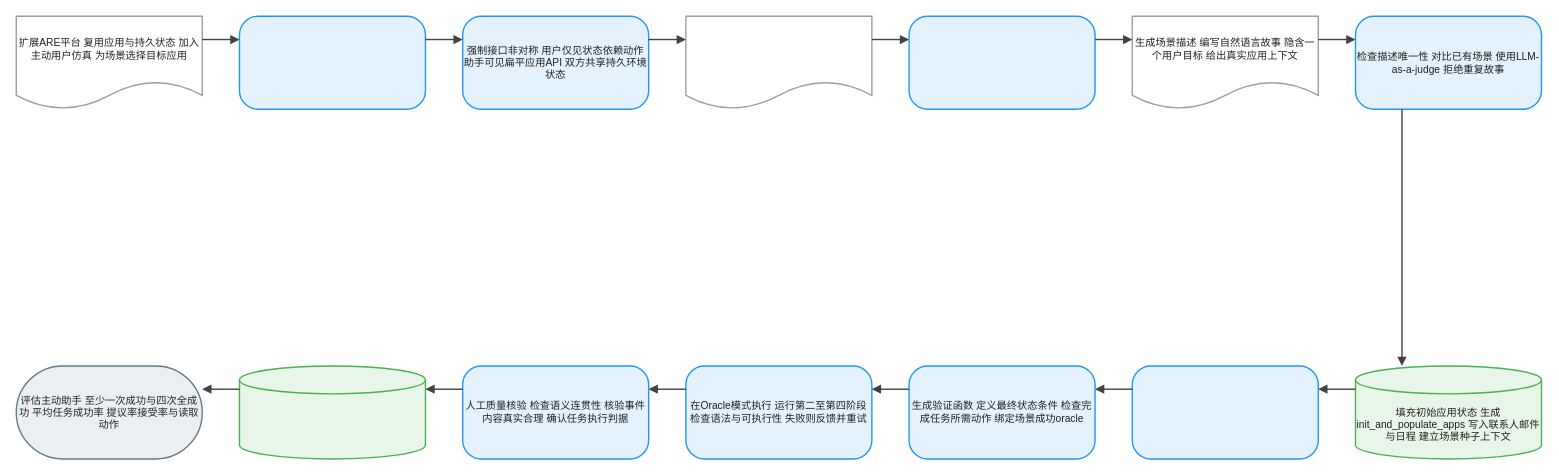
Some shapes in this 1559 by 476 pixel diagram are drawn without their labels. The shapes that lost their labels are listed below. From the top down, each one's centre as x and y in pixels, then its label:
point (332, 62): 建模有状态应用接口 每个用户应用对应一个FSM 屏幕建模为状态 导航与表单建模为转移
point (778, 62): 定义场景三部分 初始应用状态 环境事件流 Oracle验证条件
point (1001, 62): 启动场景生成智能体 基于Claude Agent SDK 只读访问Pare代码库 输入必须包含的目标应用
point (332, 412): 定稿143个场景 9个FSM应用加3个核心应用 覆盖四类应用领域 可注入工具失败与噪声事件
point (1225, 412): 构建事件流 生成build_event_flow 调度环境事件 添加oracle用户与助手动作
